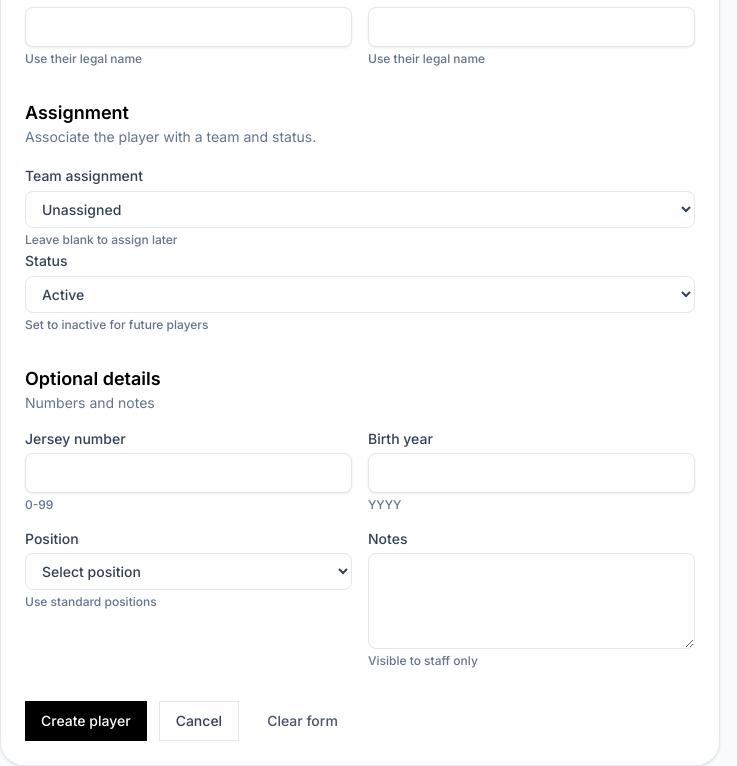
shows validation error when names are missing
(page scrolled)
Click the button "Create player": (86, 721) [25, 701, 147, 741]
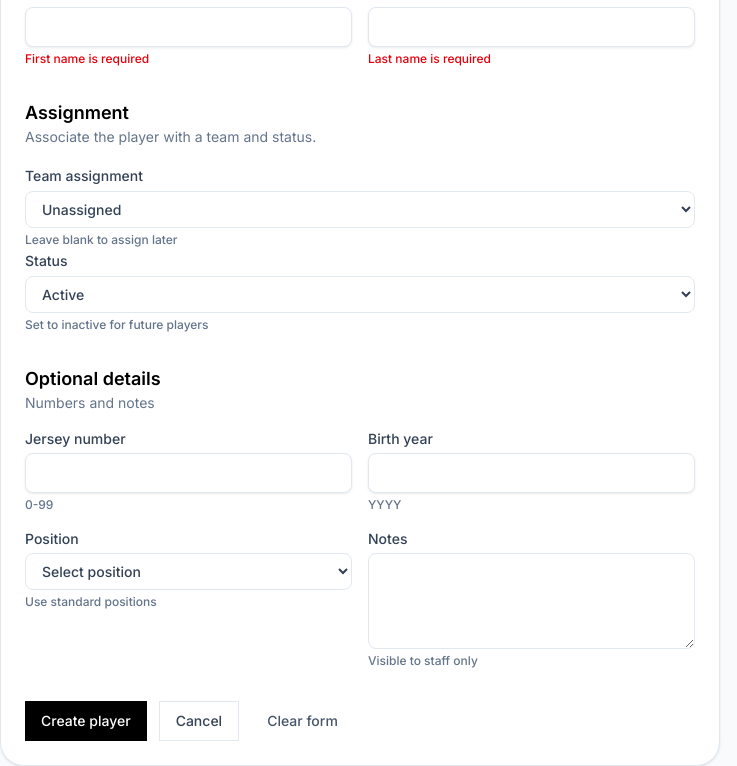
Expected: the text "First name is required" is shown, [25, 51, 149, 66]
Expected: the text "Last name is required" is shown, [368, 51, 491, 66]
